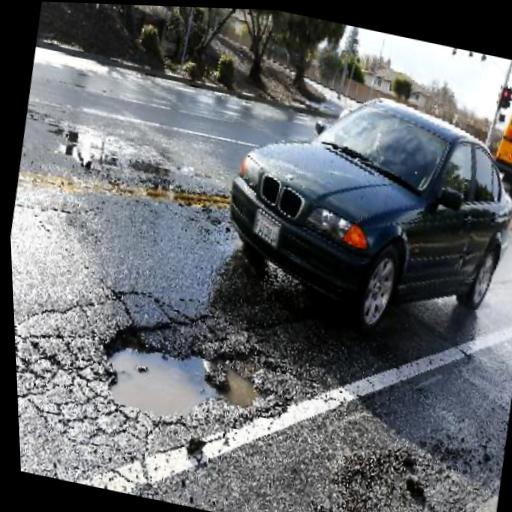pothole: (94, 306, 287, 438)
